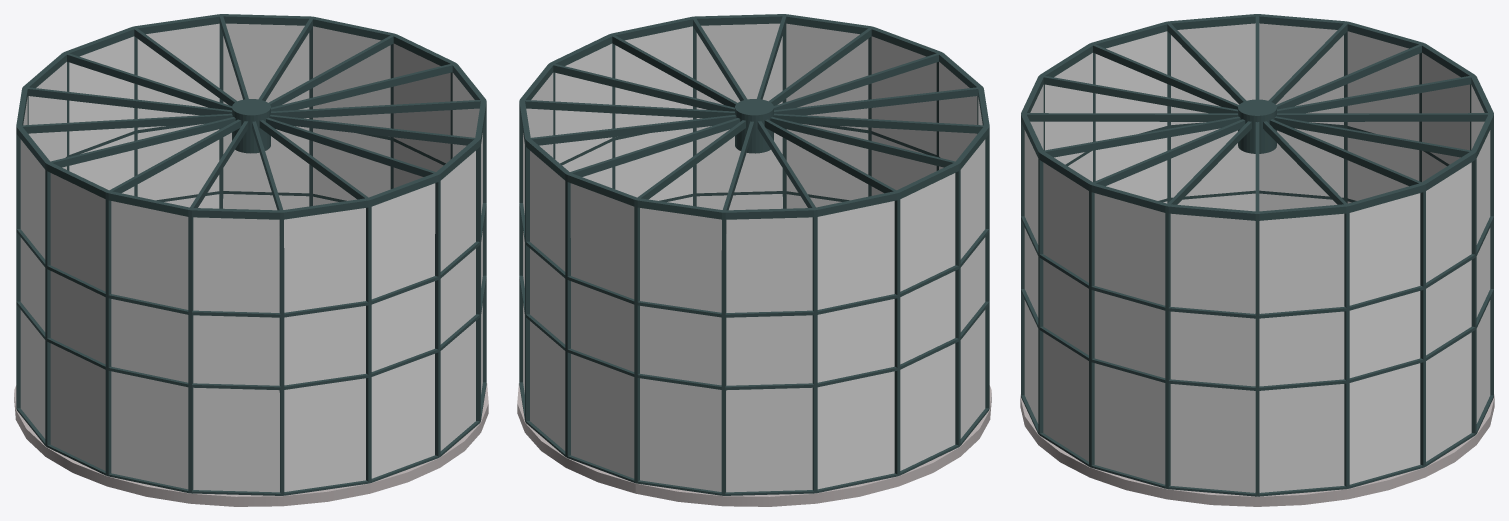
The model's file is Light.fbx.
3 renders of one model, left to right at view 1: azimuth 30°, elevation 25°; view 2: azimuth 150°, elevation 25°; view 3: azimuth 270°, elevation 25°, orthographic.
Visible parts, largest first — view 1: Glass, glassFrame, groundFloor.006, Cylinder.001; view 2: Glass, glassFrame, groundFloor.006, Cylinder.001; view 3: Glass, glassFrame, groundFloor.006, Cylinder.001.
Boxes of the visible parts, bbox=[...] form: Glass: bbox=[20, 23, 482, 492]; glassFrame: bbox=[16, 14, 486, 495]; groundFloor.006: bbox=[14, 383, 488, 506]; Cylinder.001: bbox=[232, 99, 270, 153]; Glass: bbox=[523, 23, 985, 492]; glassFrame: bbox=[519, 14, 989, 495]; groundFloor.006: bbox=[517, 383, 991, 506]; Cylinder.001: bbox=[735, 99, 773, 153]; Glass: bbox=[1024, 23, 1490, 492]; glassFrame: bbox=[1021, 14, 1493, 496]; groundFloor.006: bbox=[1020, 394, 1494, 506]; Cylinder.001: bbox=[1238, 99, 1276, 153].
Size of the model in its own units: 718 by 499 by 717.
